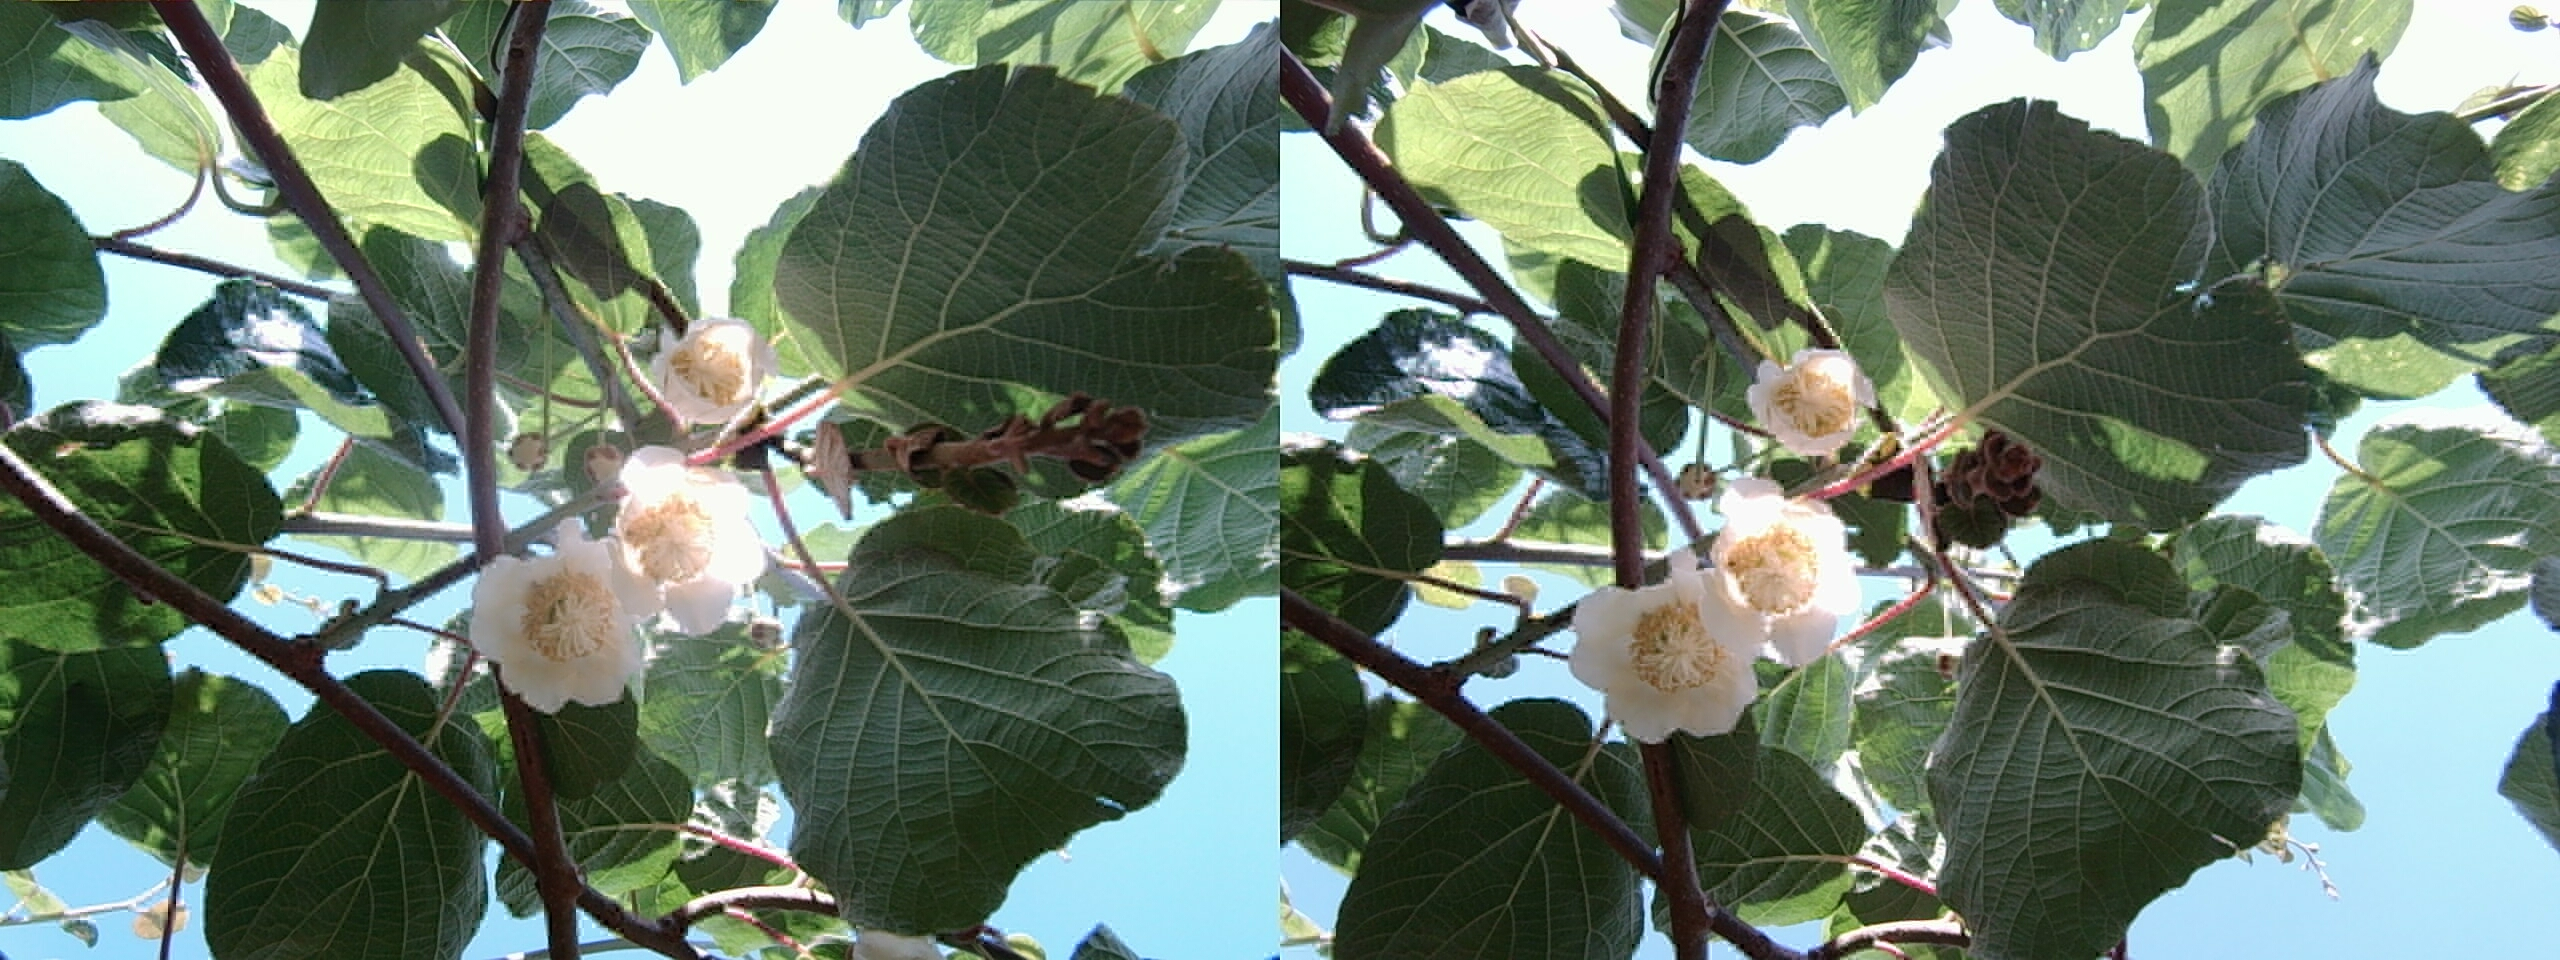flower: (1572, 552, 1770, 744), (473, 522, 656, 718), (584, 452, 754, 629), (1695, 491, 1856, 658)
